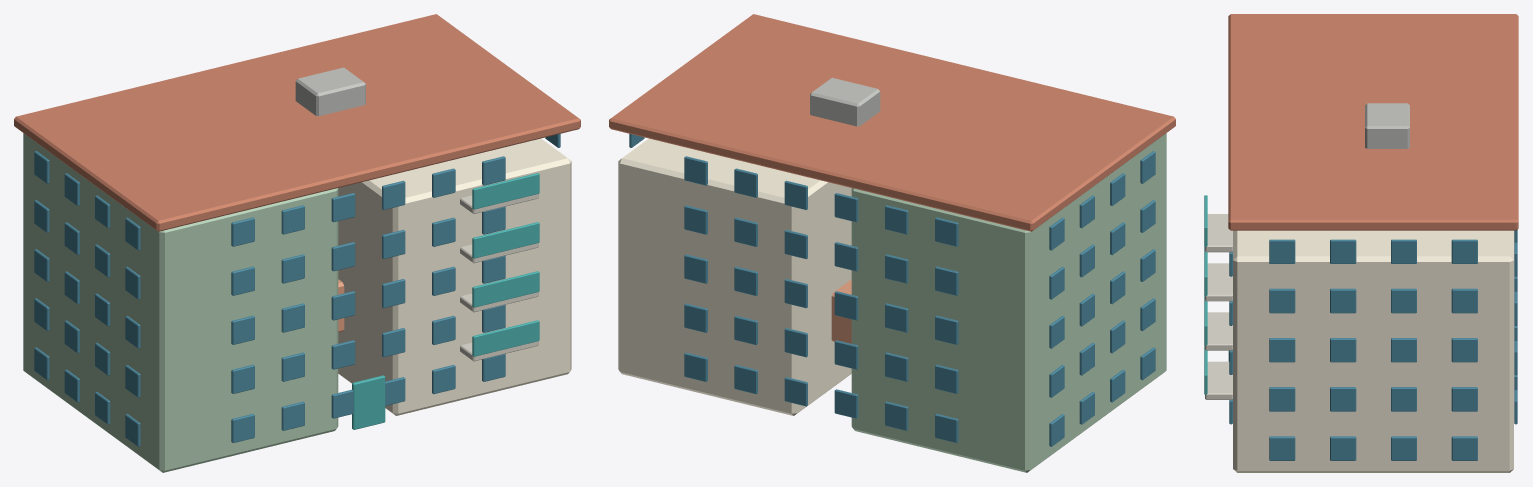
Rendered from RES_MID_3x2_006.glb.
The picture shows the model from 3 angles, left to right: view 1: azimuth 30°, elevation 25°; view 2: azimuth 150°, elevation 25°; view 3: azimuth 270°, elevation 25°; orthographic projection.
Visible parts, largest first — view 1: RES_MID_3x2_006_Visual; view 2: RES_MID_3x2_006_Visual; view 3: RES_MID_3x2_006_Visual.
Boxes of the visible parts, x1,y1,x2,y2 form: RES_MID_3x2_006_Visual: (14, 14, 580, 472); RES_MID_3x2_006_Visual: (609, 14, 1175, 472); RES_MID_3x2_006_Visual: (1204, 14, 1518, 472).
Size of what is drawn, in the model's own units: 5.25 by 3.29 by 3.36.
